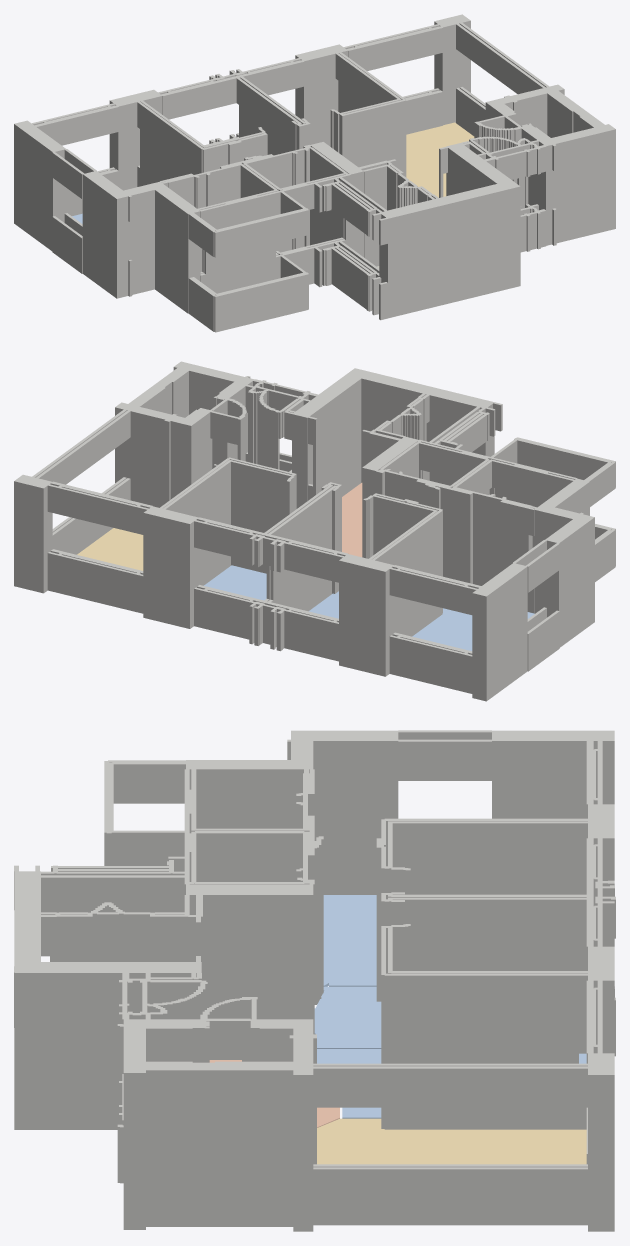
3 views of the same model, one above another, from view 1: azimuth 30°, elevation 25°; view 2: azimuth 150°, elevation 25°; view 3: azimuth 270°, elevation 25° (orthographic). The views are drawn at different scales.
Parts seen in each view (by area): view 1: walls, room:living:4; view 2: walls, room:living:4, room:bedroom:0, room:bedroom:3, room:kitchen:9; view 3: walls, room:living:4, room:bedroom:0, room:bedroom:1, room:bedroom:3.
Boxes of the visible parts, box(x1,y1,x2,y2) form: walls: box(14, 14, 615, 332); room:living:4: box(406, 122, 474, 197); walls: box(14, 361, 615, 701); room:living:4: box(77, 528, 143, 570); room:bedroom:0: box(412, 608, 534, 650); room:bedroom:3: box(204, 565, 266, 600); room:kitchen:9: box(342, 483, 362, 557); walls: box(14, 730, 615, 1231); room:living:4: box(317, 1118, 586, 1164); room:bedroom:0: box(323, 895, 376, 986); room:bedroom:1: box(314, 986, 381, 1048); room:bedroom:3: box(317, 1049, 586, 1118).
Size of the model in its own units: 13.21 by 2.8 by 9.74.
